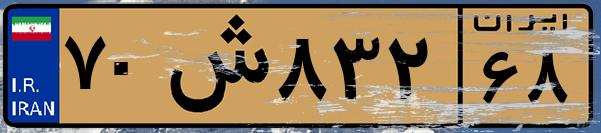0: (110, 28, 158, 98)
2: (385, 28, 445, 110)
3: (330, 28, 385, 110)
6: (475, 38, 525, 113)
7: (57, 26, 110, 100)
8: (270, 28, 330, 110), (525, 38, 570, 115)
ش: (158, 12, 270, 120)
